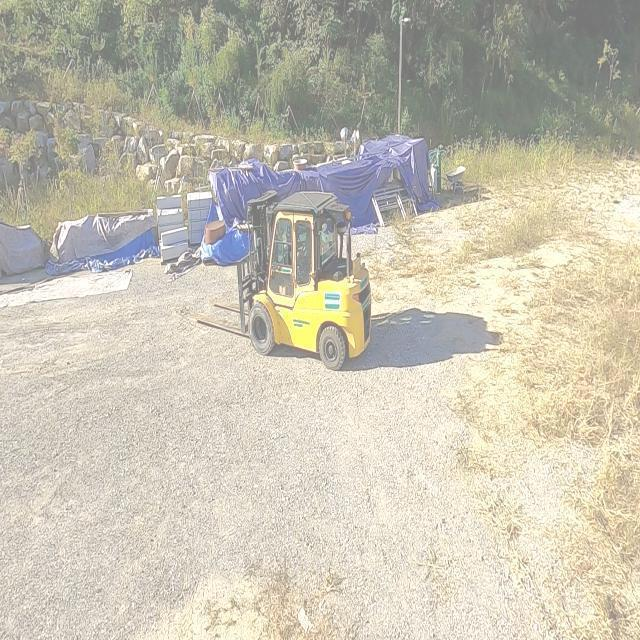forklift: (237, 190, 374, 367)
